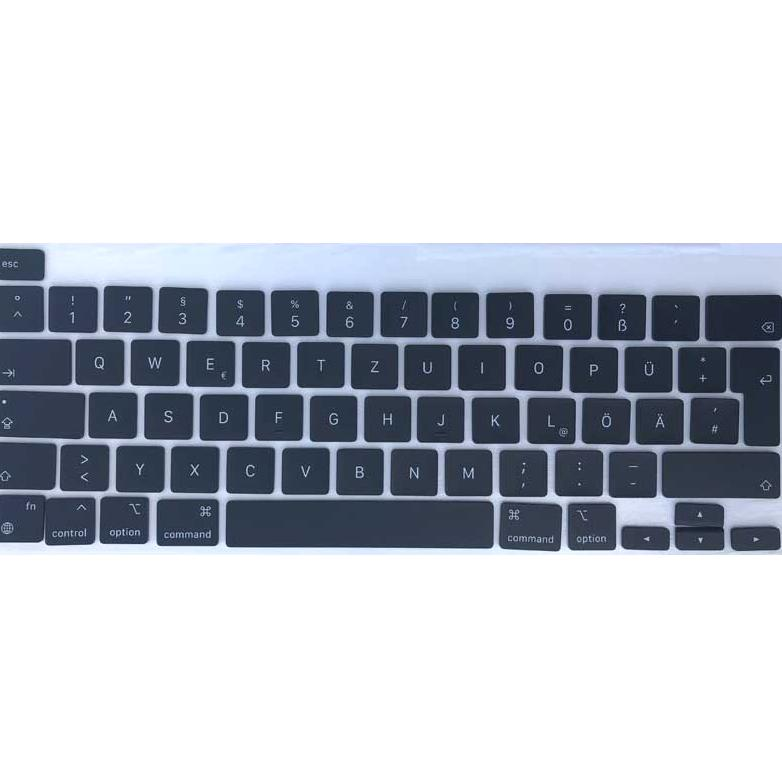0: (541, 291, 592, 339)
1: (46, 284, 97, 331)
2: (100, 284, 152, 332)
3: (156, 285, 207, 333)
4: (214, 288, 264, 336)
5: (268, 287, 319, 335)
6: (323, 288, 374, 336)
7: (378, 289, 427, 337)
8: (429, 289, 479, 337)
9: (484, 289, 534, 337)
a: (86, 389, 136, 437)
accent: (650, 292, 699, 339)
ae: (634, 395, 682, 443)
alt-left: (98, 494, 150, 545)
altgr-right: (565, 501, 616, 550)
b: (334, 445, 383, 493)
c: (224, 444, 274, 493)
caret: (1, 282, 43, 331)
comma: (497, 446, 546, 494)
d: (197, 391, 248, 440)
del: (703, 291, 782, 339)
e: (183, 337, 234, 386)
enter: (727, 343, 780, 445)
f: (253, 391, 302, 440)
g: (308, 393, 357, 441)
h: (362, 392, 410, 441)
hash: (687, 394, 737, 442)
i: (455, 342, 504, 387)
j: (414, 393, 463, 442)
k: (469, 394, 519, 442)
keyboard: (1, 243, 782, 557)
l: (525, 395, 575, 443)
less: (57, 441, 109, 490)
m: (442, 445, 491, 495)
minus: (606, 448, 655, 496)
n: (388, 445, 437, 495)
o: (512, 342, 562, 389)
oe: (580, 395, 629, 443)
p: (567, 343, 617, 391)
plus: (676, 343, 725, 391)
point: (553, 446, 602, 494)
q: (72, 335, 124, 385)
r: (239, 339, 290, 387)
s: (142, 390, 192, 438)
shift-left: (1, 439, 56, 490)
shift-lock: (1, 387, 85, 438)
shift-right: (658, 447, 779, 497)
space: (222, 497, 495, 548)
ss: (596, 291, 646, 340)
strg-left: (43, 494, 96, 546)
t: (295, 339, 344, 387)
tab: (1, 335, 71, 385)
u: (401, 342, 450, 389)
ue: (622, 343, 671, 391)
v: (279, 445, 329, 493)
w: (128, 335, 179, 385)
x: (169, 443, 219, 491)
y: (114, 443, 164, 491)
z: (349, 341, 398, 388)
